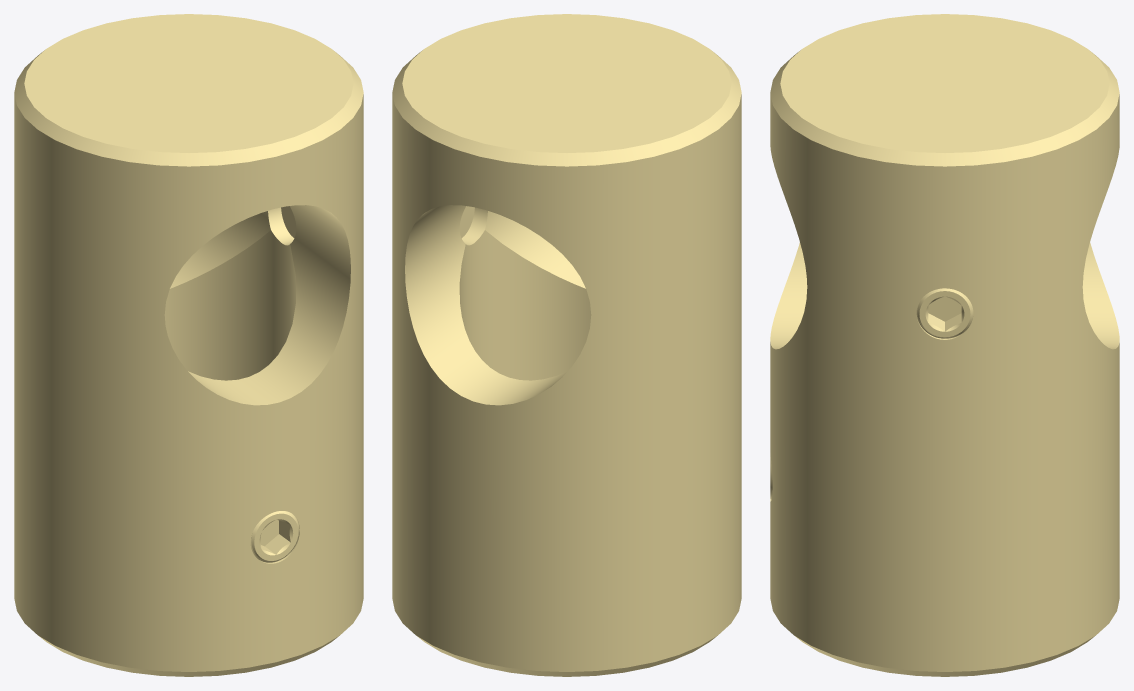
The model's file is Type16A v2.glb.
The picture shows the model from 3 angles, left to right: view 1: azimuth 30°, elevation 25°; view 2: azimuth 150°, elevation 25°; view 3: azimuth 270°, elevation 25°; orthographic projection.
Visible parts, largest first — view 1: Type16A v2; view 2: Type16A v2; view 3: Type16A v2.
Boxes of the visible parts, x1=… form: Type16A v2: x1=14, y1=14, x2=363, y2=676; Type16A v2: x1=392, y1=14, x2=741, y2=676; Type16A v2: x1=770, y1=14, x2=1119, y2=676.
Size of the model in its own units: 0.026 by 0.043 by 0.026.
1 material, 1 textured.
